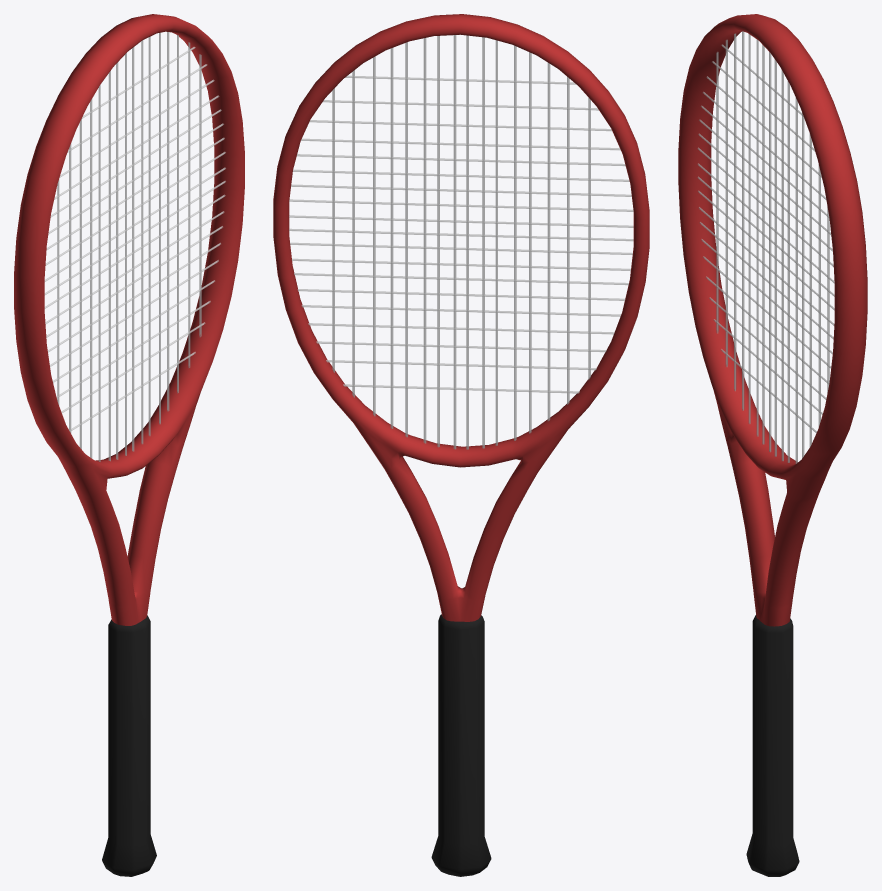
Rendered from tennis_racket.glb.
3 views of the same model, side by side, from view 1: azimuth 30°, elevation 25°; view 2: azimuth 150°, elevation 25°; view 3: azimuth 270°, elevation 25° (orthographic).
Visible parts, largest first — view 1: Object_2, Object_3, Object_4; view 2: Object_3, Object_2, Object_4; view 3: Object_2, Object_3, Object_4.
Boxes of the visible parts, bbox=[...] form: Object_2: bbox=[14, 14, 244, 625]; Object_3: bbox=[44, 32, 225, 461]; Object_4: bbox=[102, 615, 156, 876]; Object_3: bbox=[289, 35, 633, 449]; Object_2: bbox=[273, 14, 649, 621]; Object_4: bbox=[431, 614, 491, 876]; Object_2: bbox=[678, 14, 867, 626]; Object_3: bbox=[697, 31, 834, 463]; Object_4: bbox=[746, 615, 799, 876].
Bounding box in the file's own units: 0.301 × 0.8188 × 0.1664.
